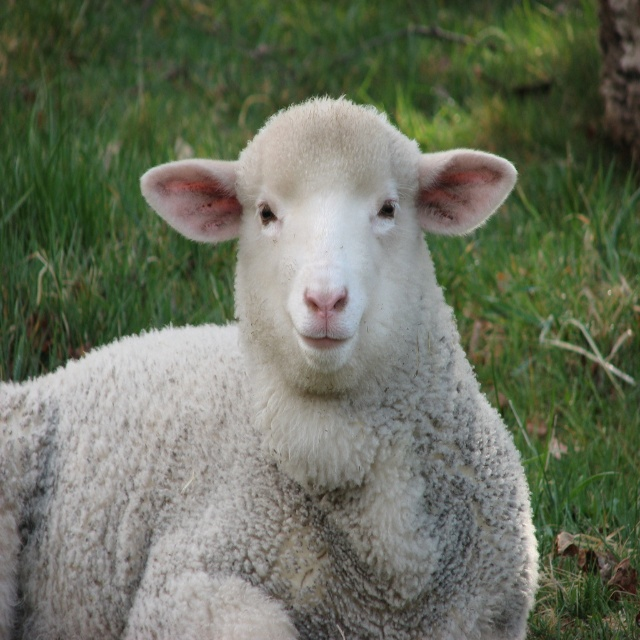Sheep: (1, 91, 539, 639)
